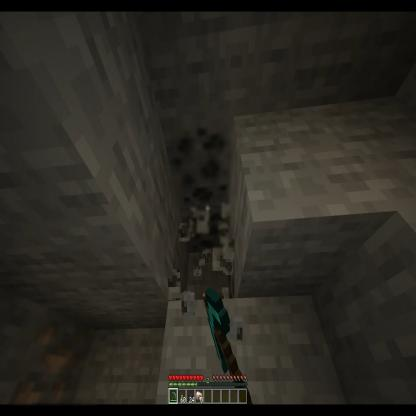coal ore: (171, 120, 235, 211), (184, 184, 234, 252)
iron ore: (10, 312, 95, 412)
